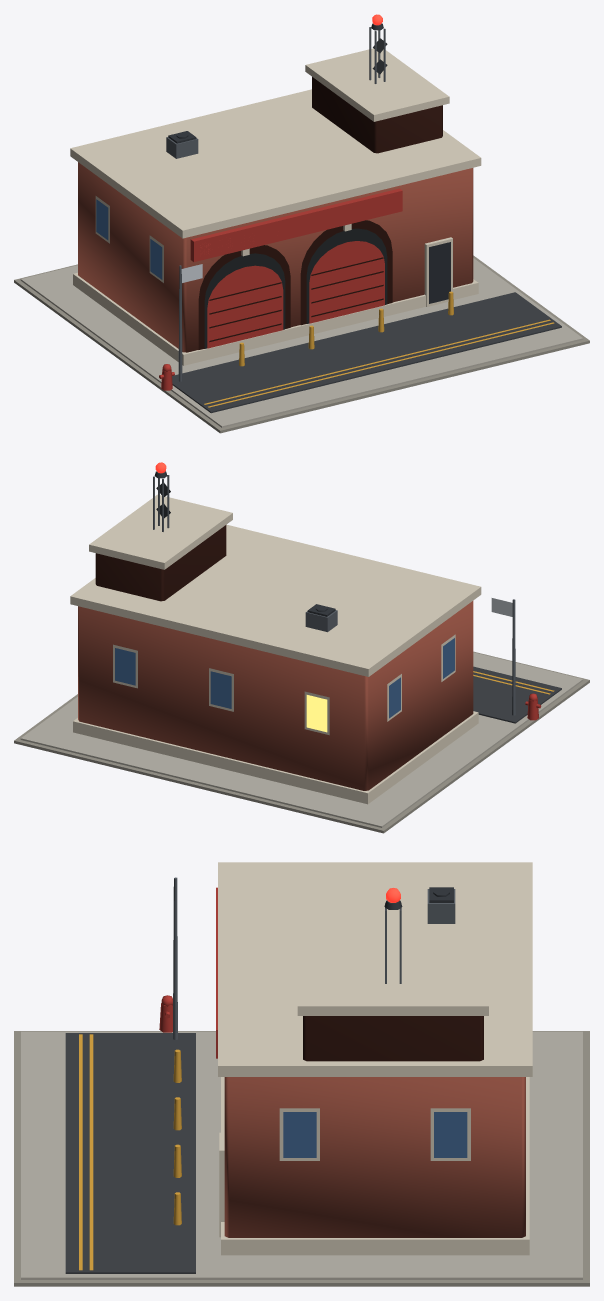
The model's file is ember-fire-station.glb.
The picture shows the model from 3 angles, top to bottom: view 1: azimuth 30°, elevation 25°; view 2: azimuth 150°, elevation 25°; view 3: azimuth 270°, elevation 25°; orthographic projection. The views are drawn at different scales.
Parts seen in each view (by area): view 1: Merged_fire-stone, Merged_fire-brick, Merged_city-asphalt, Merged_fire-sign-red, Merged_city-paving, Merged_fire-brick-shade, Merged_city-curb, Merged_fire-bay-interior, Merged_city-metal, Merged_fire-safety-surface, Merged_city-window-frame, Merged_fire-brick-shade-surface (+2 smaller); view 2: Merged_fire-brick, Merged_fire-stone, Merged_city-paving, Merged_fire-brick-shade, Merged_city-curb, Merged_city-asphalt, Merged_city-glass-surface, Merged_city-metal, Merged_city-lit-glass-surface; view 3: Merged_fire-stone, Merged_fire-brick, Merged_city-paving, Merged_city-asphalt, Merged_fire-brick-shade, Merged_city-curb, Merged_city-glass-surface, Merged_fire-safety-surface, Merged_city-metal, Merged_fire-safety, Merged_fire-sign-red.
Boxes of the visible parts, bbox=[...] form: Merged_fire-stone: bbox=[70, 48, 481, 365]; Merged_fire-brick: bbox=[78, 162, 473, 352]; Merged_city-asphalt: bbox=[172, 292, 561, 413]; Merged_fire-sign-red: bbox=[159, 188, 402, 390]; Merged_city-paving: bbox=[20, 258, 583, 427]; Merged_fire-brick-shade: bbox=[198, 77, 442, 349]; Merged_city-curb: bbox=[14, 255, 589, 433]; Merged_fire-bay-interior: bbox=[204, 228, 387, 348]; Merged_city-metal: bbox=[166, 27, 385, 381]; Merged_fire-safety-surface: bbox=[204, 319, 554, 407]; Merged_city-window-frame: bbox=[429, 242, 450, 303]; Merged_fire-brick-shade-surface: bbox=[209, 257, 383, 342]; Merged_fire-brick: bbox=[78, 601, 473, 790]; Merged_fire-stone: bbox=[70, 494, 481, 804]; Merged_city-paving: bbox=[20, 652, 583, 827]; Merged_fire-brick-shade: bbox=[95, 525, 226, 601]; Merged_city-curb: bbox=[14, 651, 589, 833]; Merged_city-asphalt: bbox=[473, 666, 561, 723]; Merged_city-glass-surface: bbox=[115, 638, 454, 718]; Merged_city-metal: bbox=[153, 475, 515, 715]; Merged_city-lit-glass-surface: bbox=[306, 695, 327, 732]; Merged_fire-stone: bbox=[218, 862, 532, 1255]; Merged_fire-brick: bbox=[224, 1077, 525, 1237]; Merged_city-paving: bbox=[21, 1031, 582, 1279]; Merged_city-asphalt: bbox=[65, 1033, 195, 1273]; Merged_fire-brick-shade: bbox=[303, 1016, 483, 1061]; Merged_city-curb: bbox=[14, 1031, 589, 1286]; Merged_city-glass-surface: bbox=[283, 1112, 467, 1157]; Merged_fire-safety-surface: bbox=[79, 1034, 93, 1270]; Merged_city-metal: bbox=[173, 877, 455, 1039]; Merged_fire-safety: bbox=[173, 1049, 181, 1225]; Merged_fire-sign-red: bbox=[159, 887, 217, 1058].
Size of what is drawn, in the model's own units: 10.69 by 6.75 by 10.18.
